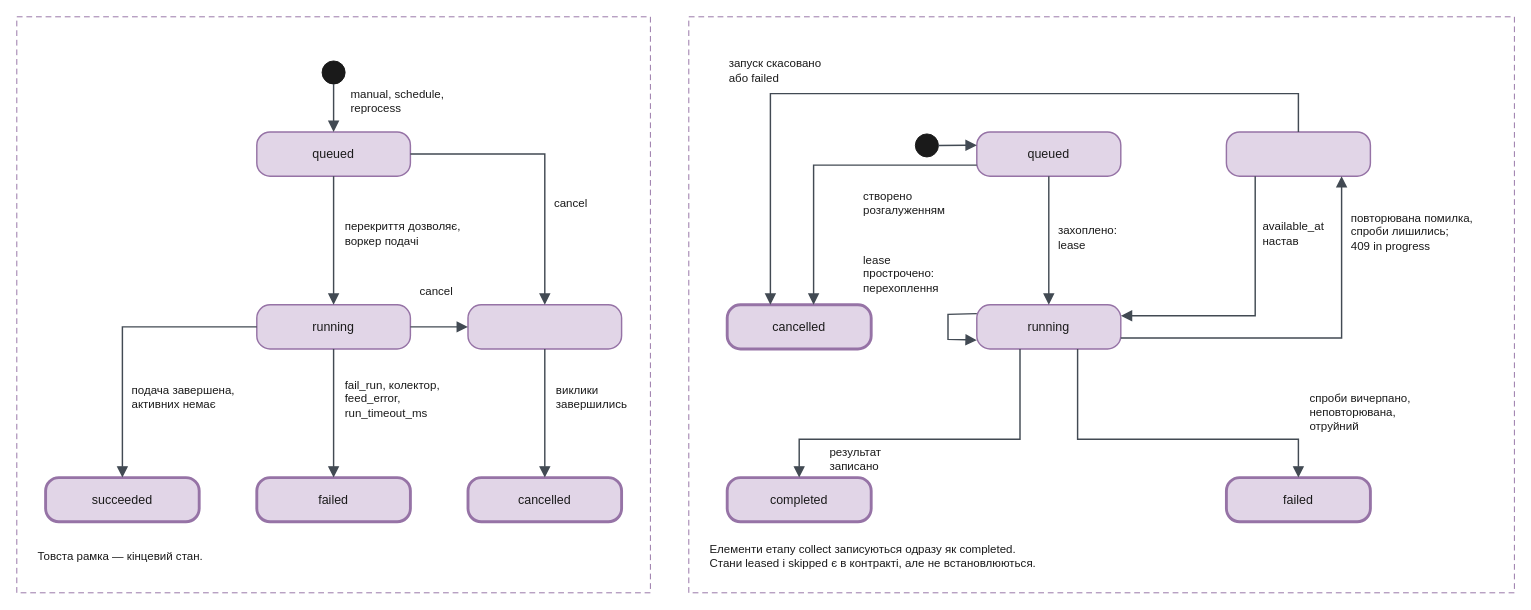
Some shapes in this 1531 by 610 pixel diagram are drawn without their labels. The box of each missing label's shape, as (x1, y1, x2, y2) in pixels:
cancelling: (467, 304, 622, 349)
retrying: (1225, 131, 1371, 176)
Елемент етапу: items.status: (688, 16, 1514, 593)
Запуск: runs.status: (16, 16, 650, 593)
